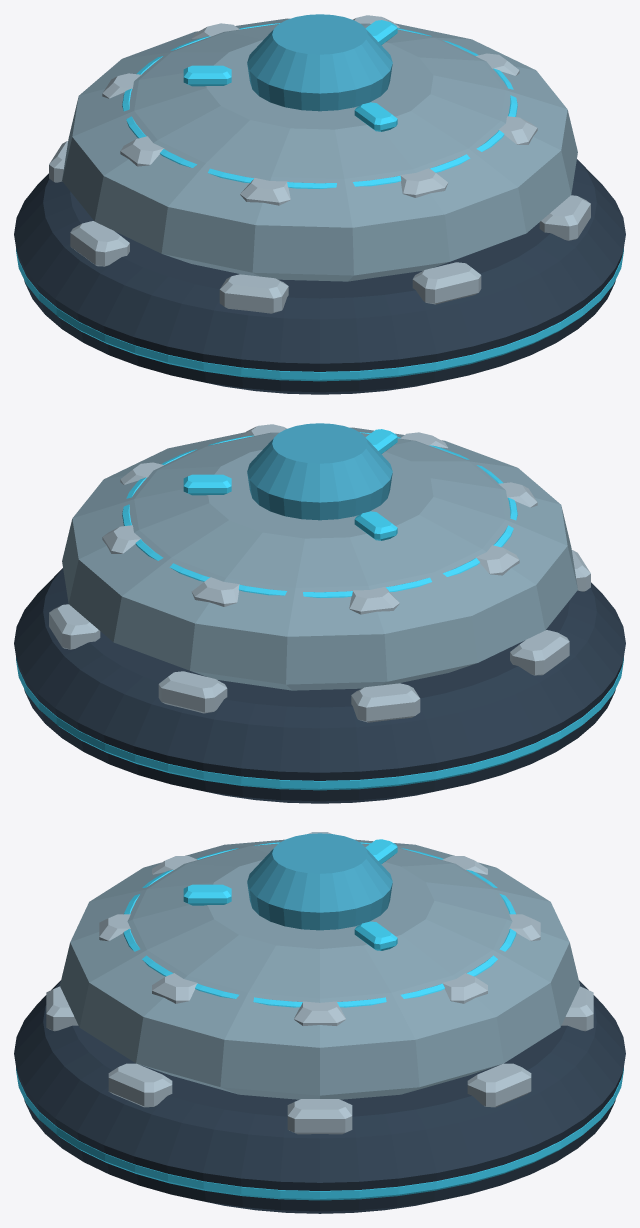
File: mine.obj
3 views of the same model, one above another, from view 1: azimuth 30°, elevation 25°; view 2: azimuth 150°, elevation 25°; view 3: azimuth 270°, elevation 25° (orthographic).
Parts seen in each view (by area): view 1: mine; view 2: mine; view 3: mine.
Part boxes in pixels (x1,y1,x2,y2): mine: (14, 14, 625, 394); mine: (14, 423, 625, 803); mine: (14, 832, 625, 1213).
Bounding box in the file's own units: 0.294 × 0.135 × 0.294.
